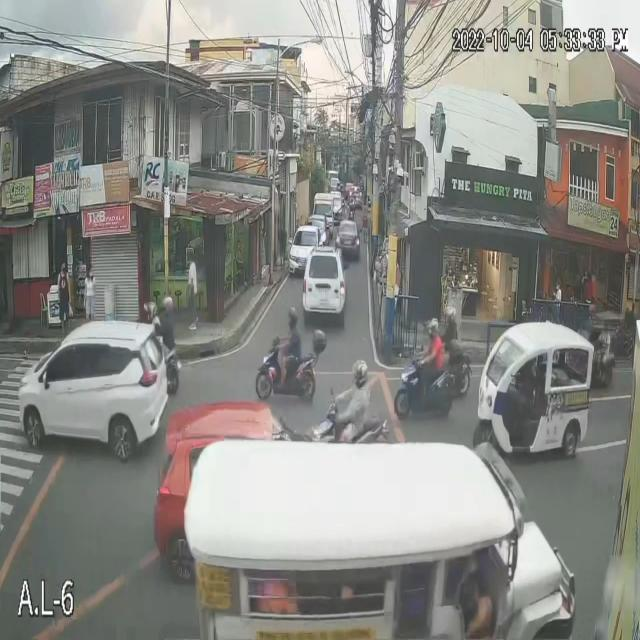Full-Faced: (351, 356, 369, 388), (423, 316, 442, 338), (442, 307, 459, 330), (286, 305, 300, 331), (160, 297, 174, 317)
Half-Faced: (143, 302, 158, 322)
